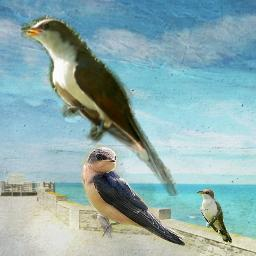Cuckoo: (21, 14, 179, 196), (197, 188, 232, 244)
Swallow: (81, 141, 196, 251)
